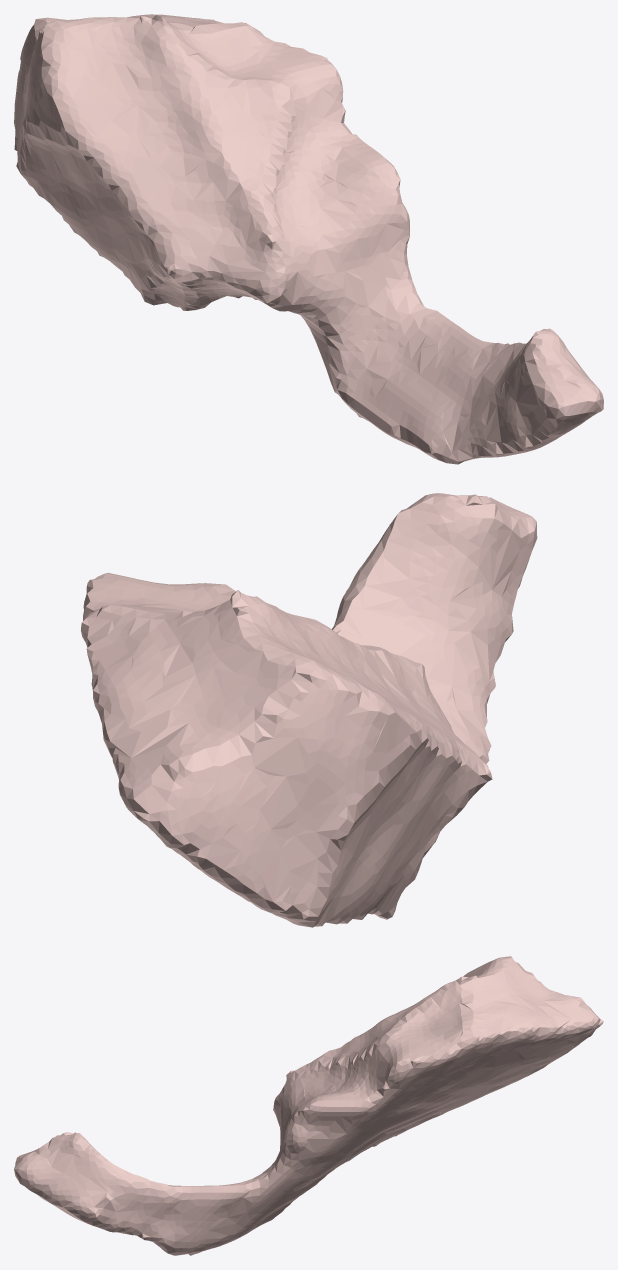
The model's file is Model_10134_LH__Temporal_area_TH_(TH).obj.
3 views of the same model, one above another, from view 1: azimuth 30°, elevation 25°; view 2: azimuth 150°, elevation 25°; view 3: azimuth 270°, elevation 25° (orthographic). The views are drawn at different scales.
Bounding box in the file's own units: 3.13 × 3.35 × 7.56.
